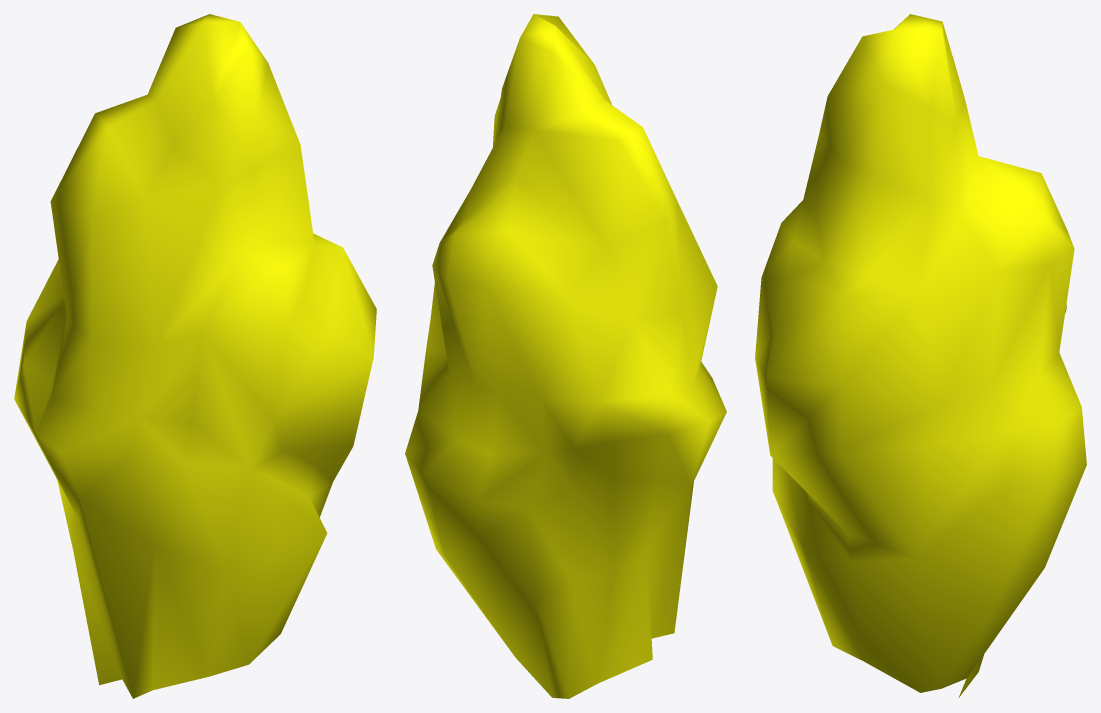
File: rock_pillar_01.glb
3 views of the same model, side by side, from view 1: azimuth 30°, elevation 25°; view 2: azimuth 150°, elevation 25°; view 3: azimuth 270°, elevation 25° (orthographic). The views are drawn at different scales.
Visible parts, largest first — view 1: rock_pillar_01; view 2: rock_pillar_01; view 3: rock_pillar_01.
Boxes of the visible parts, <box> form: rock_pillar_01: <box>14,14,376,698</box>; rock_pillar_01: <box>405,14,726,698</box>; rock_pillar_01: <box>755,14,1086,697</box>.
Size of the model in its own units: 17.48 by 37.33 by 16.15.
1 material, 1 textured.
